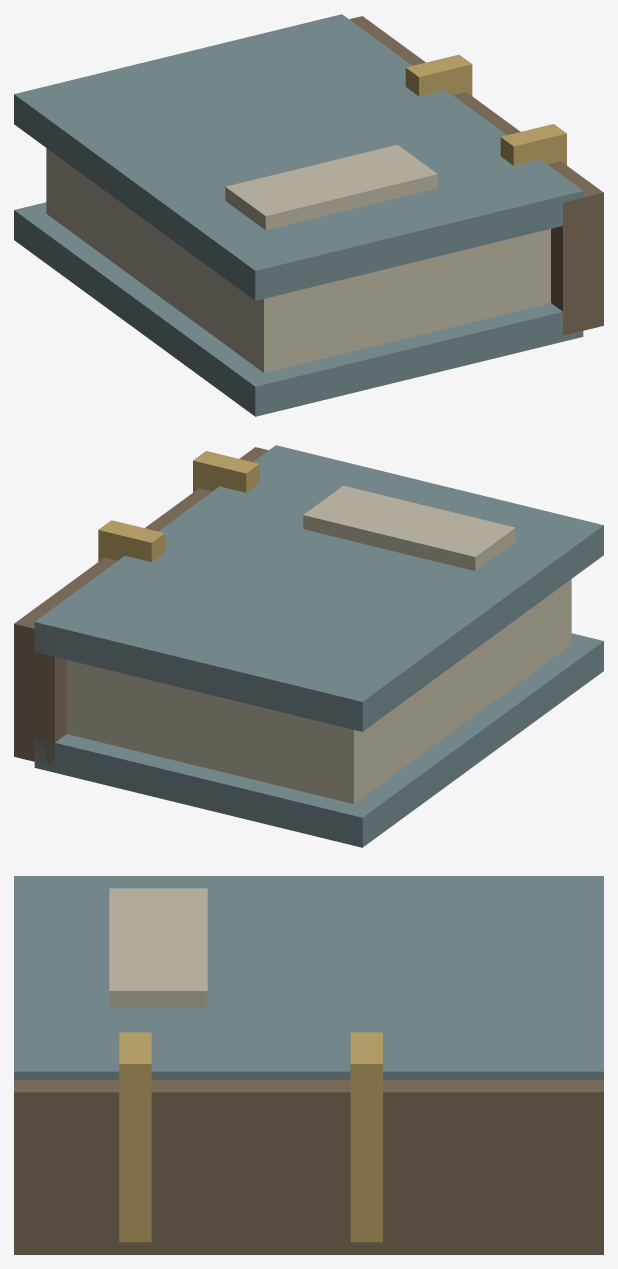
File: spread-portable-codex10.fbx
The picture shows the model from 3 angles, top to bottom: view 1: azimuth 30°, elevation 25°; view 2: azimuth 150°, elevation 25°; view 3: azimuth 270°, elevation 25°; orthographic projection. The views are drawn at different scales.
Parts seen in each view (by area): view 1: spread-portable-codex10__Geometry; view 2: spread-portable-codex10__Geometry; view 3: spread-portable-codex10__Geometry.
Part boxes in pixels (x1,y1,x2,y2): spread-portable-codex10__Geometry: [14, 14, 603, 416]; spread-portable-codex10__Geometry: [14, 445, 603, 847]; spread-portable-codex10__Geometry: [14, 876, 603, 1254].
Bounding box in the file's own units: 0.4325 × 0.1925 × 0.51.
